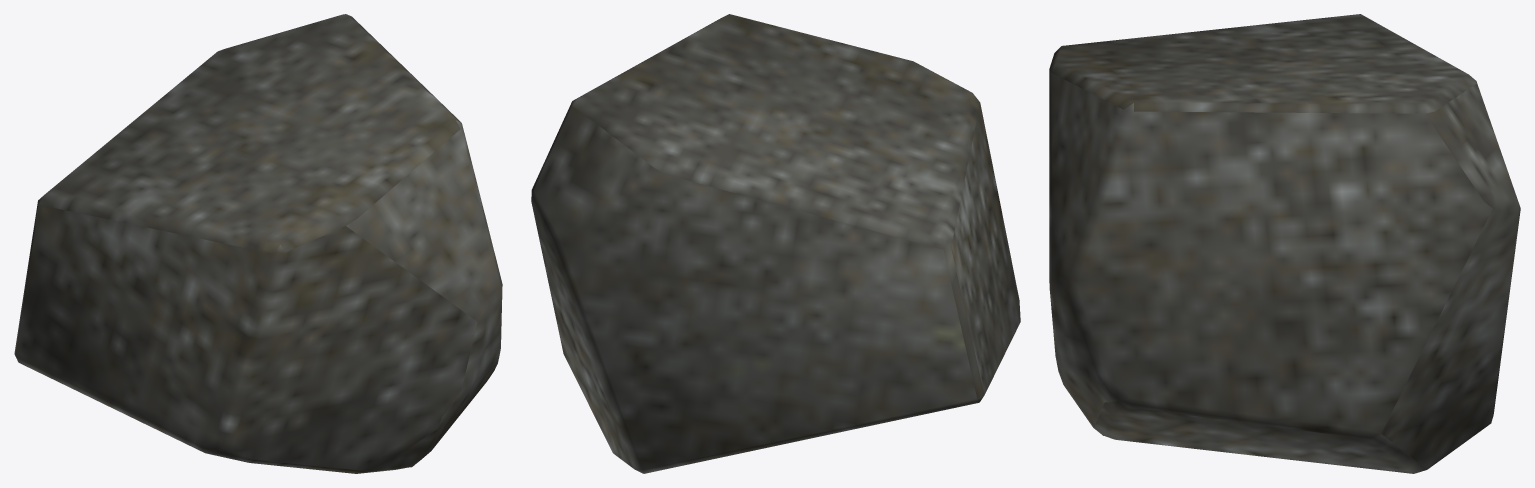
Rendered from rock4.fbx.
3 views of the same model, side by side, from view 1: azimuth 30°, elevation 25°; view 2: azimuth 150°, elevation 25°; view 3: azimuth 270°, elevation 25° (orthographic). The views are drawn at different scales.
Visible parts, largest first — view 1: Cube.004; view 2: Cube.004; view 3: Cube.004.
Boxes of the visible parts, x1,y1,x2,y2 form: Cube.004: (14, 14, 502, 473); Cube.004: (531, 14, 1020, 473); Cube.004: (1049, 14, 1520, 473).
Bounding box in the file's own units: 132 × 108 × 118.
